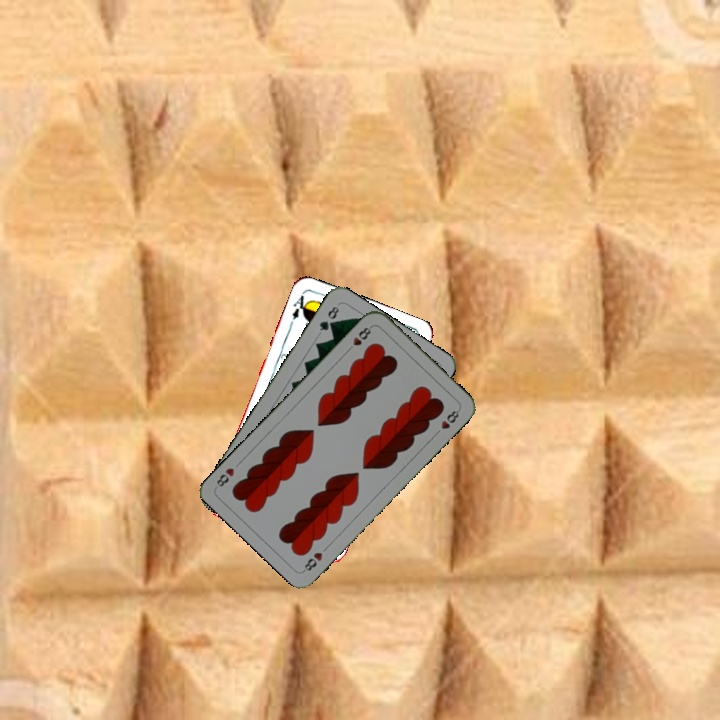EA: (288, 288, 312, 322)
G8: (315, 301, 342, 333)
H8: (343, 322, 375, 355), (299, 548, 325, 574)
